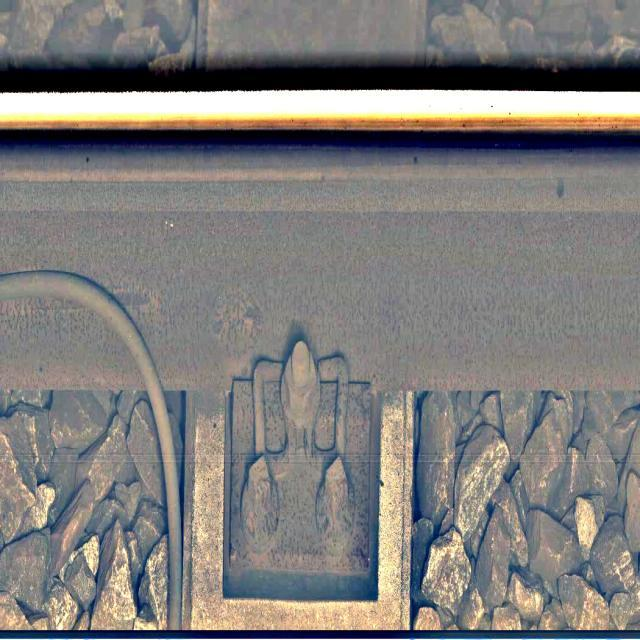Good Fasteners: (225, 340, 379, 600)
